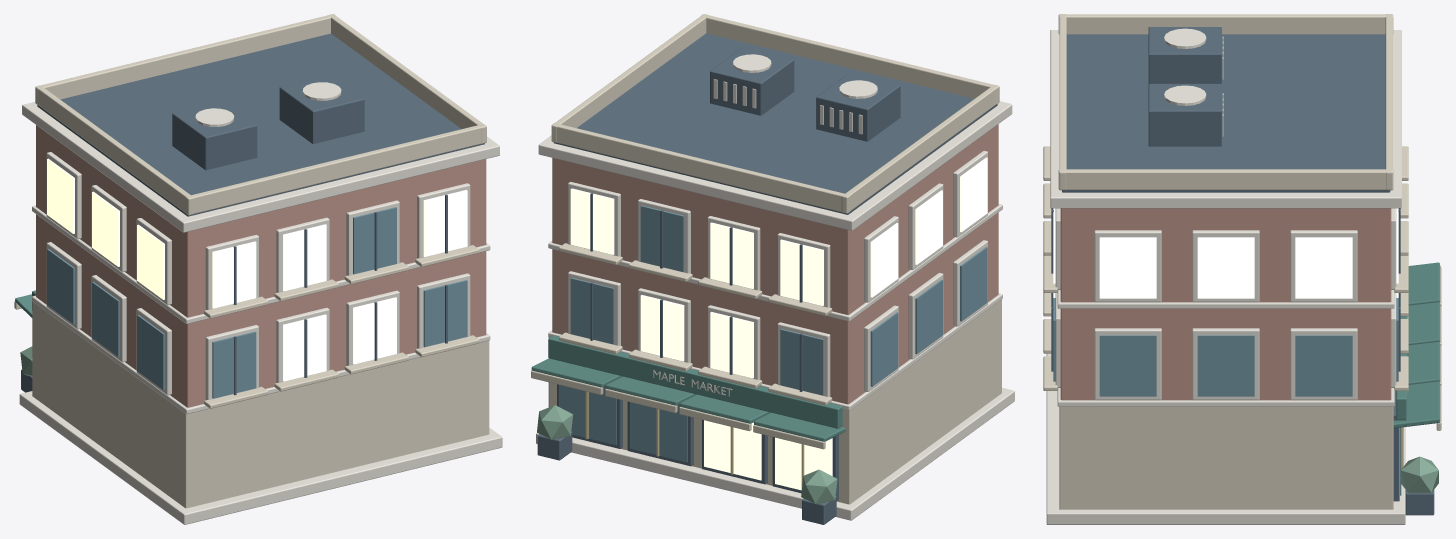
Rendered from market-corner.glb.
3 renders of one model, left to right at view 1: azimuth 30°, elevation 25°; view 2: azimuth 150°, elevation 25°; view 3: azimuth 270°, elevation 25°, orthographic. The views are drawn at different scales.
Parts seen in each view (by area): view 1: market-corner_Warm limestone, market-corner_Charcoal steel, market-corner_Terracotta brick, market-corner_Pale concrete, market-corner_Occupied windows, market-corner_Blue glass; view 2: market-corner_Warm limestone, market-corner_Charcoal steel, market-corner_Terracotta brick, market-corner_Pale concrete, market-corner_Occupied windows, market-corner_Blue glass, market-corner_Deep evergreen signage, market-corner_Planter foliage, market-corner_Brass trim; view 3: market-corner_Warm limestone, market-corner_Charcoal steel, market-corner_Pale concrete, market-corner_Terracotta brick, market-corner_Blue glass, market-corner_Occupied windows, market-corner_Deep evergreen signage, market-corner_Planter foliage.
Part boxes in pixels (x1,y1,x2,y2): market-corner_Warm limestone: (14, 14, 489, 508); market-corner_Charcoal steel: (21, 33, 484, 395); market-corner_Terracotta brick: (36, 125, 486, 407); market-corner_Pale concrete: (19, 82, 502, 524); market-corner_Occupied windows: (47, 158, 467, 381); market-corner_Blue glass: (47, 207, 467, 398); market-corner_Warm limestone: (531, 14, 1001, 504); market-corner_Charcoal steel: (537, 33, 997, 524); market-corner_Terracotta brick: (552, 124, 998, 404); market-corner_Pale concrete: (536, 54, 1014, 520); market-corner_Occupied windows: (570, 157, 987, 490); market-corner_Blue glass: (559, 205, 987, 462); market-corner_Deep evergreen signage: (531, 335, 845, 441); market-corner_Planter foliage: (537, 405, 837, 504); market-corner_Brass trim: (585, 367, 804, 489); market-corner_Warm limestone: (1043, 14, 1441, 509); market-corner_Charcoal steel: (1051, 27, 1434, 515); market-corner_Pale concrete: (1046, 28, 1408, 524); market-corner_Terracotta brick: (1060, 208, 1391, 400); market-corner_Blue glass: (1053, 298, 1401, 495); market-corner_Occupied windows: (1053, 208, 1398, 298); market-corner_Deep evergreen signage: (1393, 262, 1440, 428); market-corner_Planter foliage: (1400, 456, 1438, 493).
Bounding box in the file's own units: 9.8 × 9.97 × 9.76.
